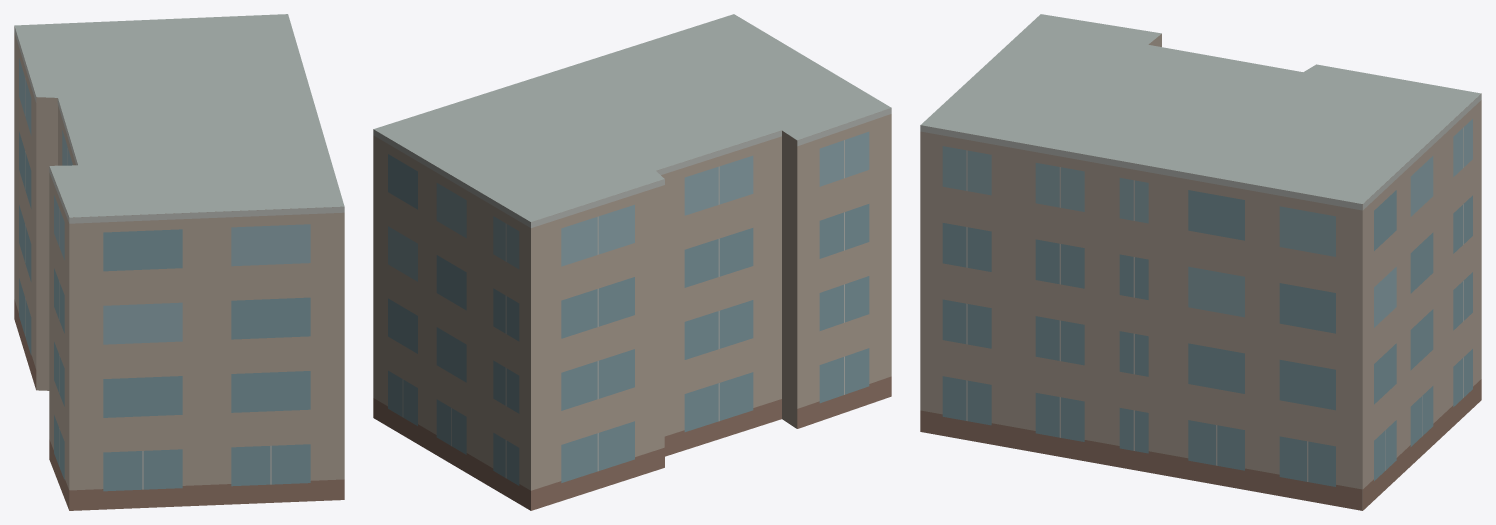
The model's file is survey-upis-32778514.glb.
3 views of the same model, side by side, from view 1: azimuth 30°, elevation 25°; view 2: azimuth 150°, elevation 25°; view 3: azimuth 270°, elevation 25° (orthographic). The views are drawn at different scales.
Parts seen in each view (by area): view 1: survey-upis-32778514.tmp; view 2: survey-upis-32778514.tmp; view 3: survey-upis-32778514.tmp.
Part boxes in pixels (x1,y1,x2,y2): survey-upis-32778514.tmp: [14, 14, 344, 510]; survey-upis-32778514.tmp: [373, 14, 891, 510]; survey-upis-32778514.tmp: [920, 14, 1481, 510].
Size of the model in its own units: 15.56 by 11.7 by 19.41.
